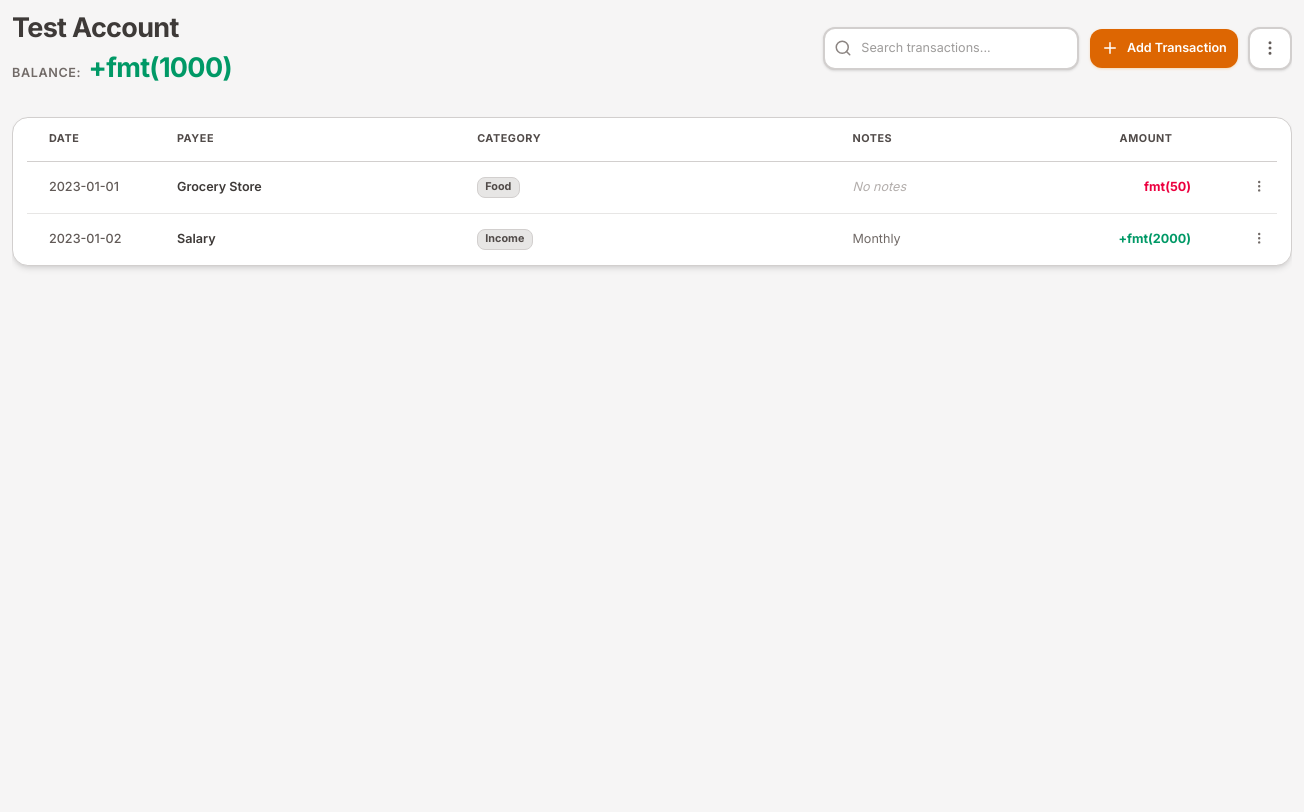
Test: AccountDetails › context menu is dismissed when clicking outside
Right-click the text "Grocery Store" at x=652, y=188, box [27,162,1277,214]
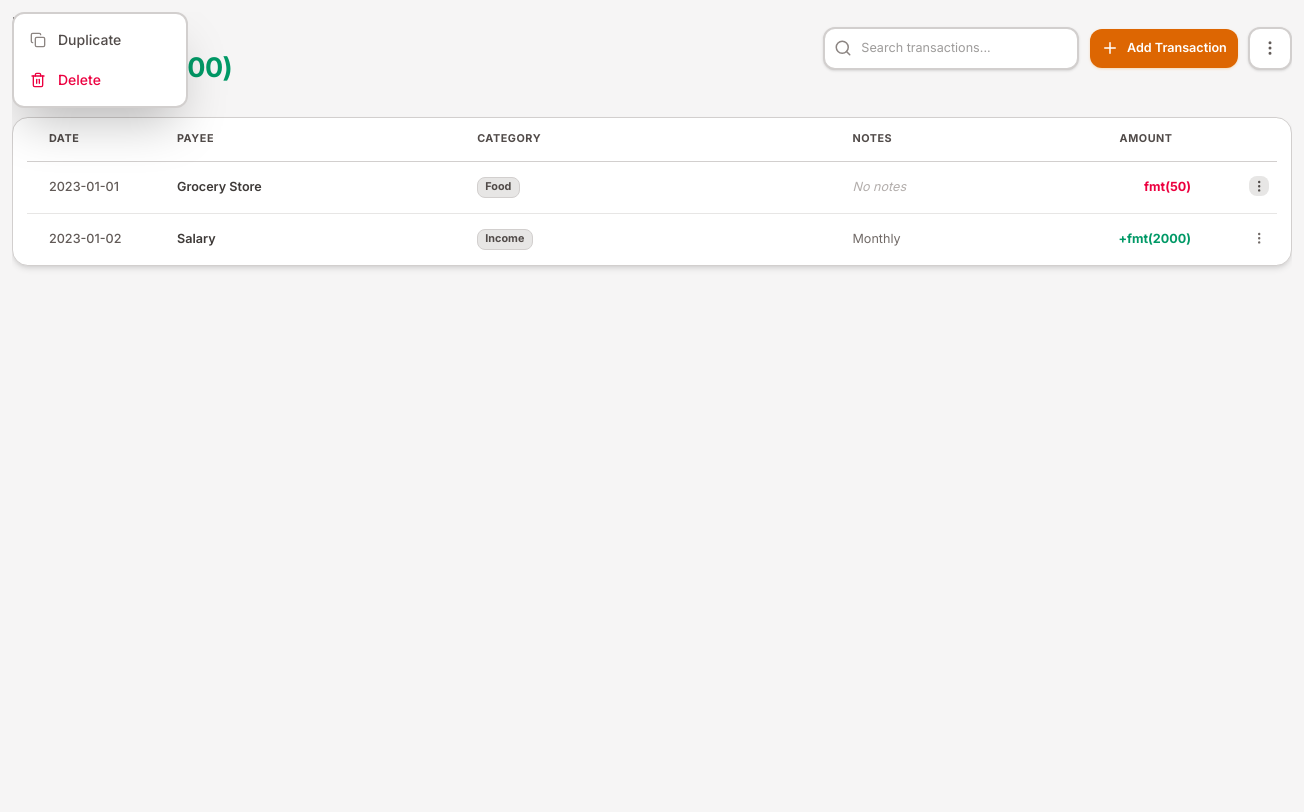
Result: the button "Duplicate" is shown at [14,20,186,60]
Press the mouse on the element that starts with "Test Account" at x=652, y=412, box [12,12,1292,811]
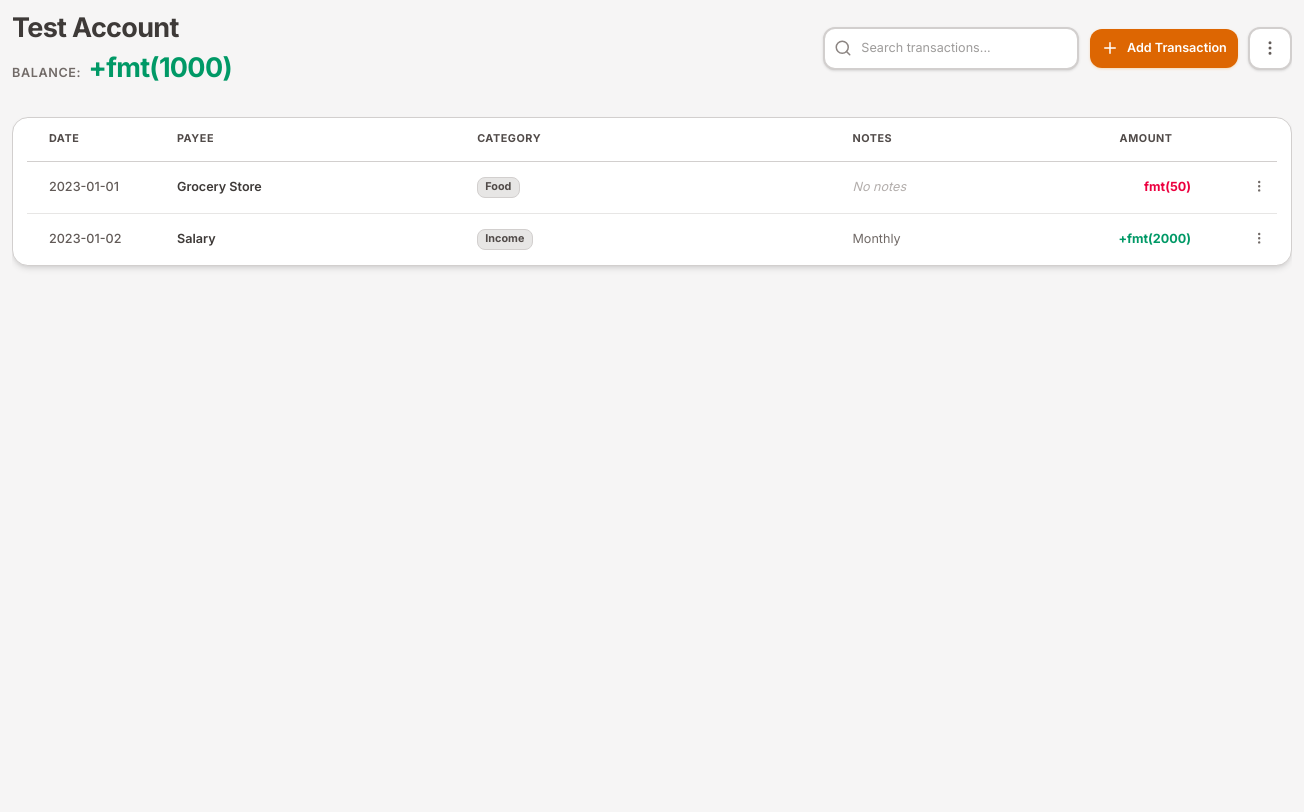
Result: the button "Duplicate" is gone
